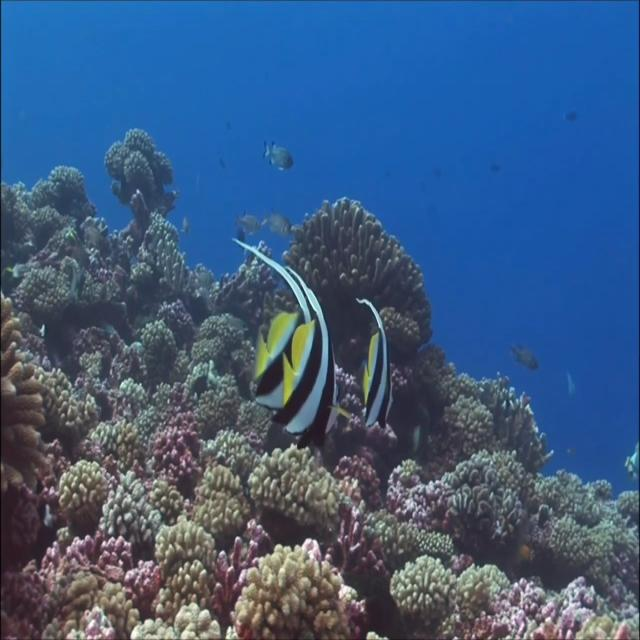Bannerfish: (237, 238, 304, 407), (284, 265, 337, 444), (359, 295, 397, 432)
